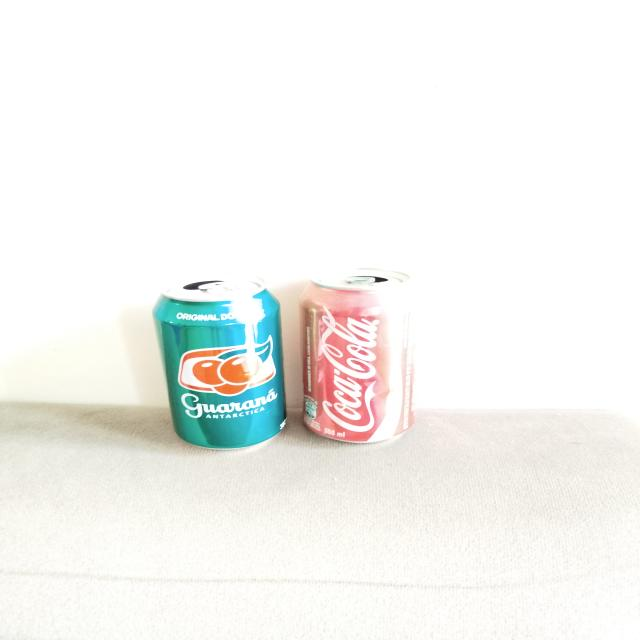Coca Cola: (300, 269, 415, 443)
Guarana: (153, 277, 284, 450)
